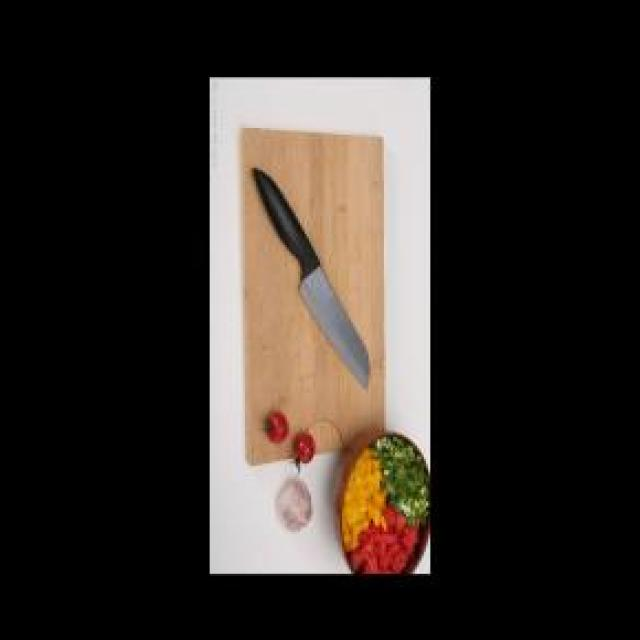knife: (246, 164, 373, 393)
